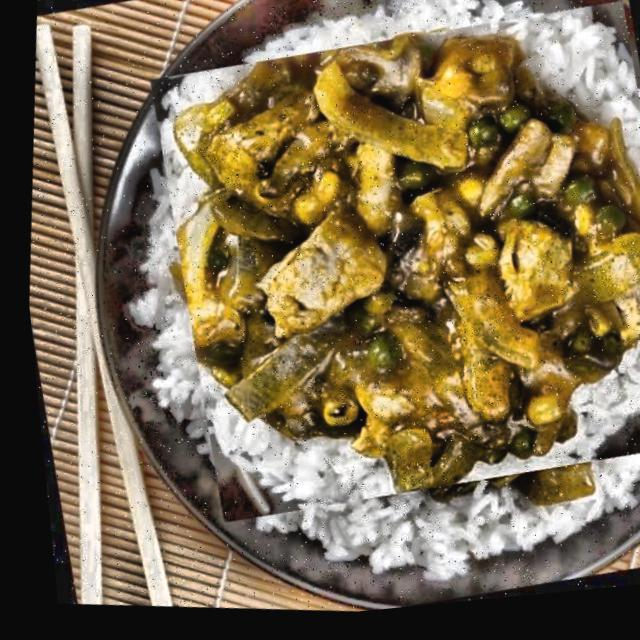Food: (85, 0, 640, 587)
